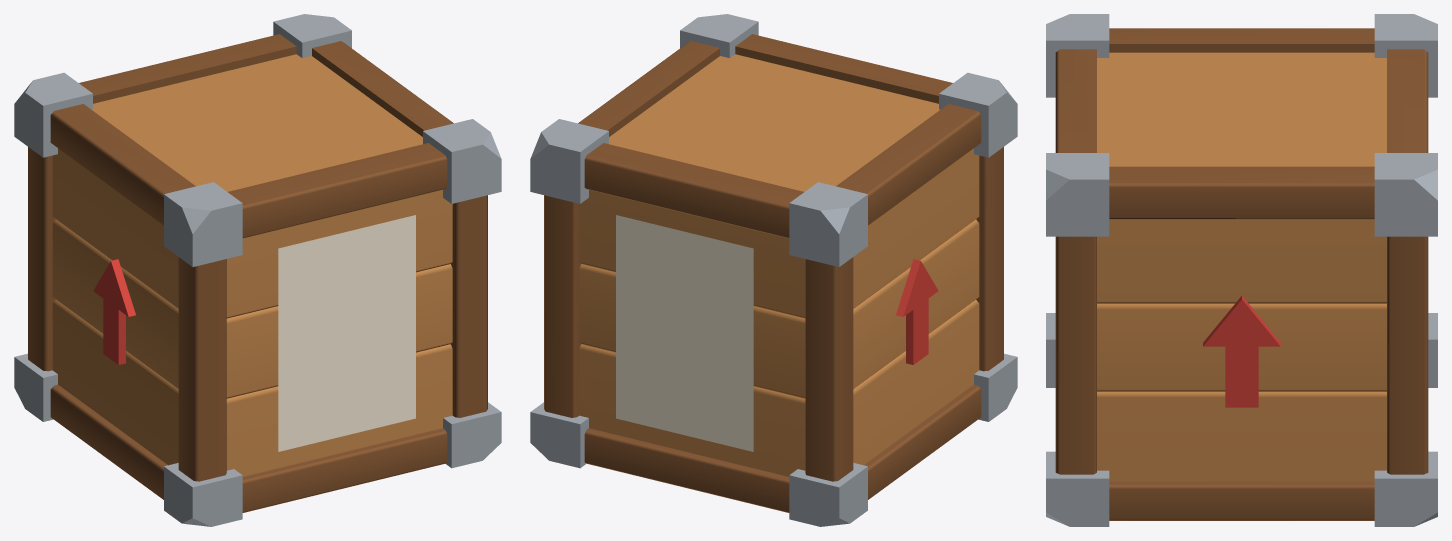
File: CajaFragil.fbx
The picture shows the model from 3 angles, left to right: view 1: azimuth 30°, elevation 25°; view 2: azimuth 150°, elevation 25°; view 3: azimuth 270°, elevation 25°; orthographic projection. The views are drawn at different scales.
Visible parts, largest first — view 1: CajaFragil; view 2: CajaFragil; view 3: CajaFragil.
Boxes of the visible parts, left/top/right/bottom form: CajaFragil: left=14, top=14, right=501, bottom=526; CajaFragil: left=530, top=14, right=1017, bottom=526; CajaFragil: left=1046, top=14, right=1437, bottom=526.
Bounding box in the file's own units: 2.08 × 2.04 × 2.08.
1 material, 1 textured.
